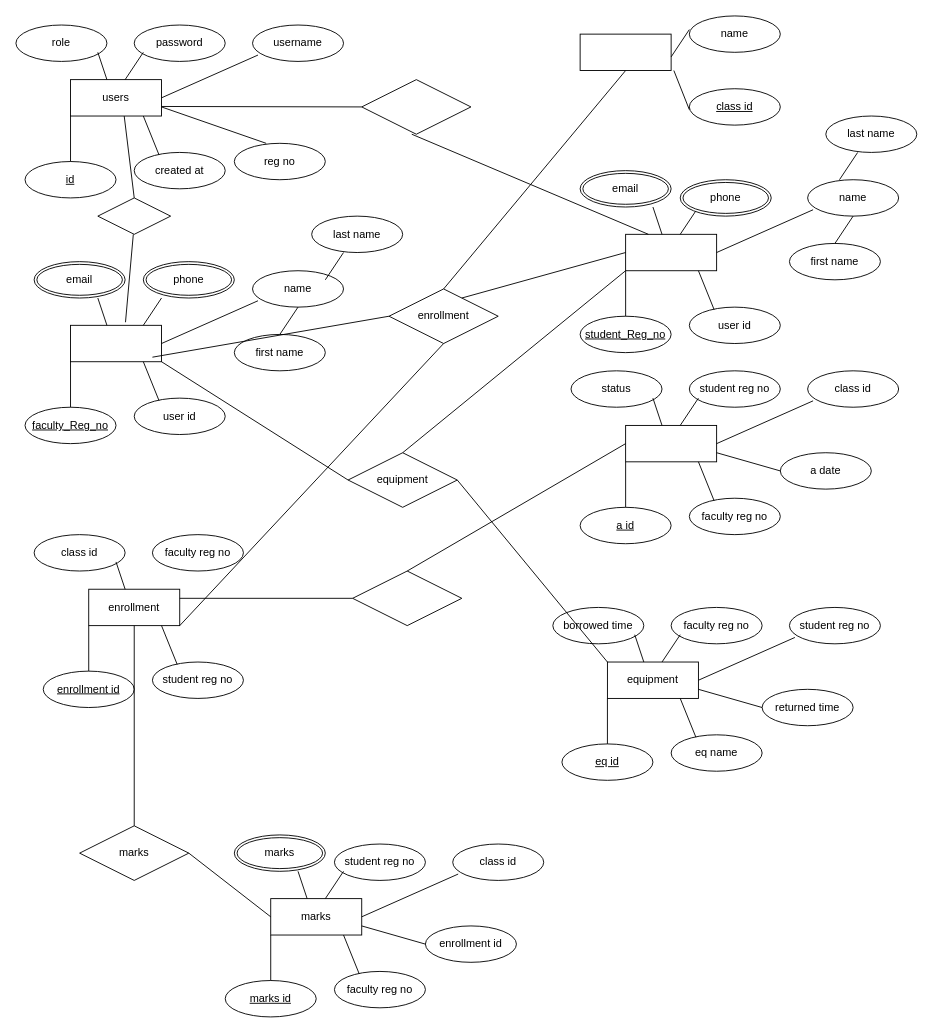
Some shapes in this 933 by 1033 pixel diagram are drawn without their labels. The shapes that lost their labels are listed below. From the top down, each one's centre as x and y in pixels, then its label:
the point at 625,52: classes
the point at 416,106: student registration
the point at 134,215: faculty registration
the point at 671,252: students
the point at 116,343: faculty
the point at 671,443: attendance
the point at 407,598: student attendance
